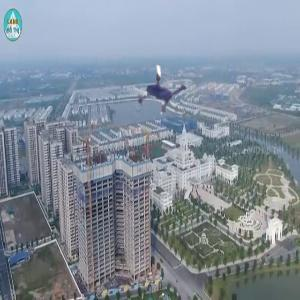drone: (123, 43, 203, 123)
